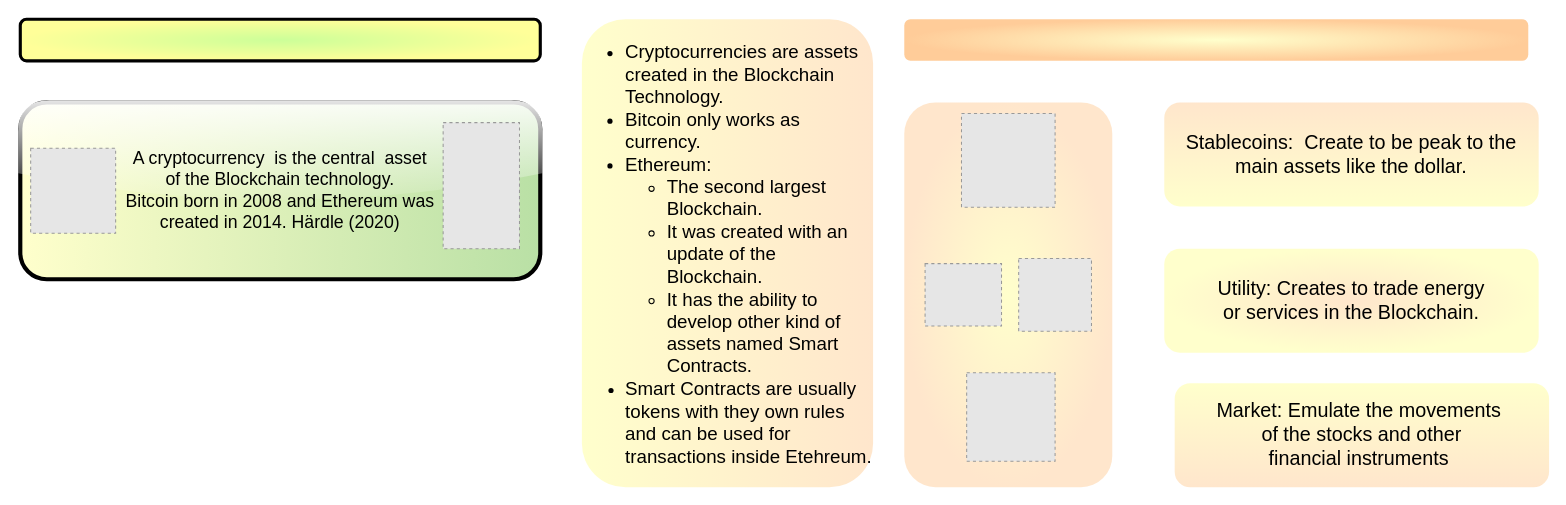
Some shapes in this 1566 by 505 pixel diagram are drawn without their labels. Grey dashed boxes stand in for pictures. The shapes that lost their labels are listed below. From the top down, each one's box as (x1, y1, x2, y2) in pixels, then its label:
(18, 17, 541, 62): Cryptocurrencies
(904, 19, 1528, 60): Fungible Tokens . Harvey and Rule(2020)
